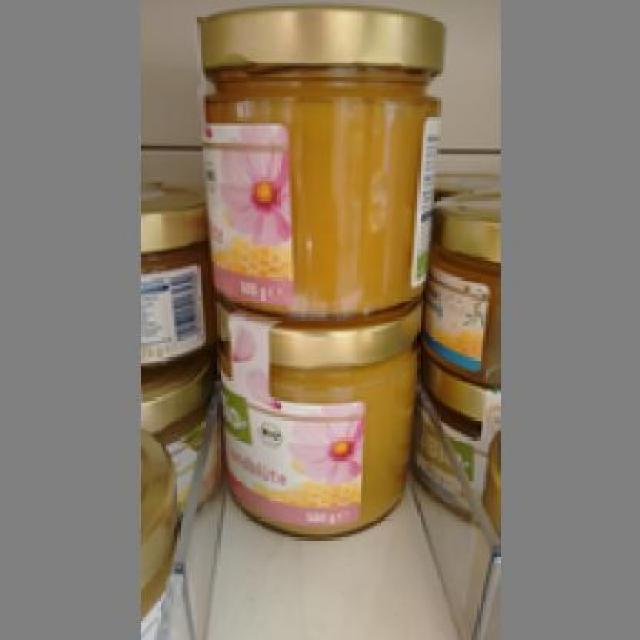Honey: (173, 0, 446, 312), (203, 302, 426, 535)
